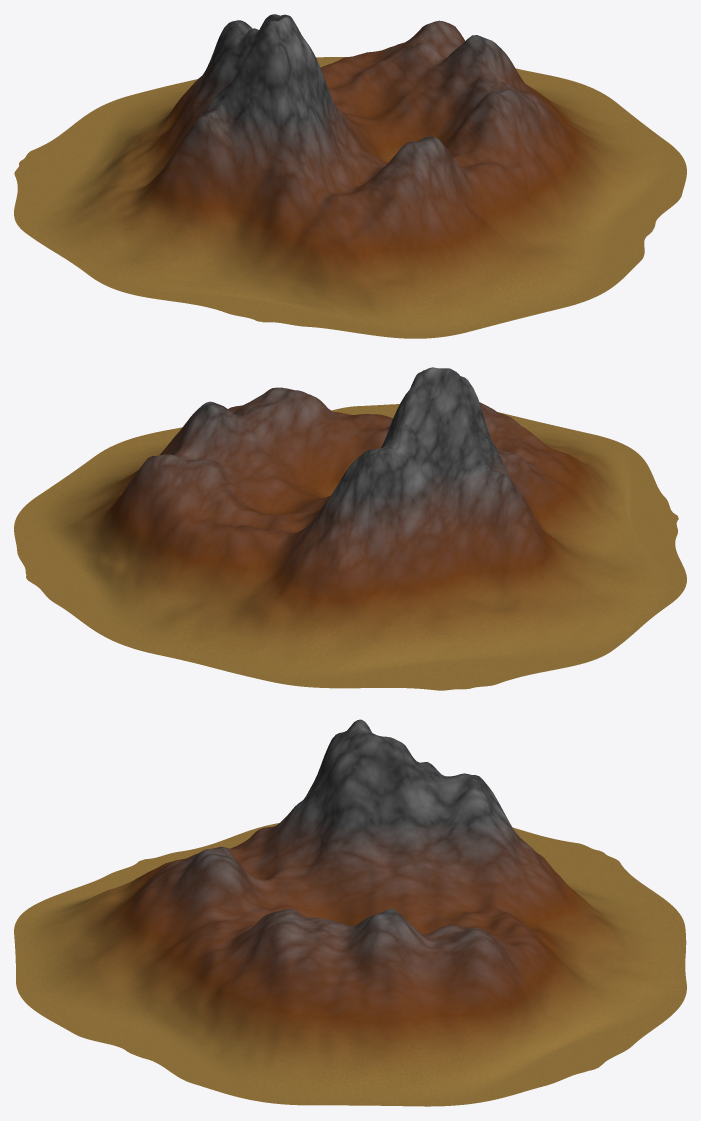
File: Island_Round.fbx
3 renders of one model, top to bottom at view 1: azimuth 30°, elevation 25°; view 2: azimuth 150°, elevation 25°; view 3: azimuth 270°, elevation 25°, orthographic. The views are drawn at different scales.
Visible parts, largest first — view 1: Landscape.001; view 2: Landscape.001; view 3: Landscape.001.
Boxes of the visible parts, x1=… form: Landscape.001: x1=14, y1=14, x2=686, y2=338; Landscape.001: x1=14, y1=367, x2=686, y2=690; Landscape.001: x1=14, y1=719, x2=686, y2=1106.
Size of the model in its own units: 1567 by 504 by 1542.
